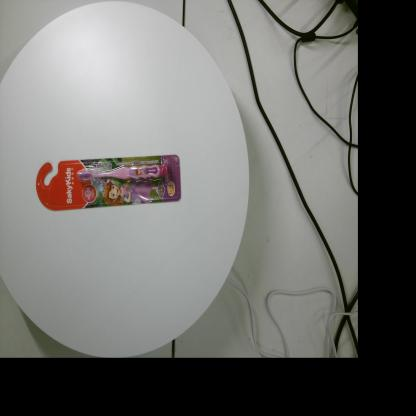Personal Hygiene: (36, 154, 181, 211)
